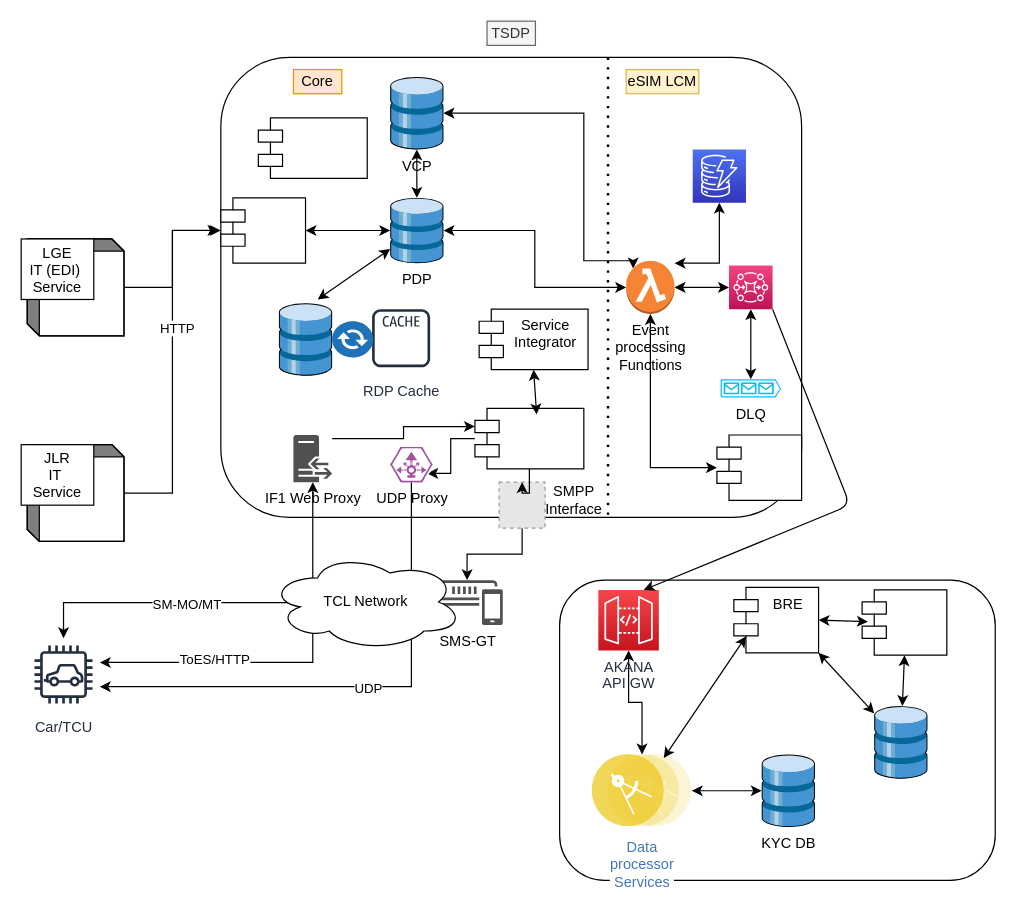
Image size: 1016x912. Some labels were removed from this diagram. Grey dashed boxes stand in for pictures. Each missing label, with the centre of its shape:
Dispatcher: (529,438)
ESim Datastore: (719,175)
eSIM HUB: (900,742)
IF-eSIM Web Proxy: (759,467)
MDI: (263,230)
Radius AAA Service: (904,622)
RDP: (305,339)
Transaction Queue: (750,286)
WCar Radius Service: (312,147)
